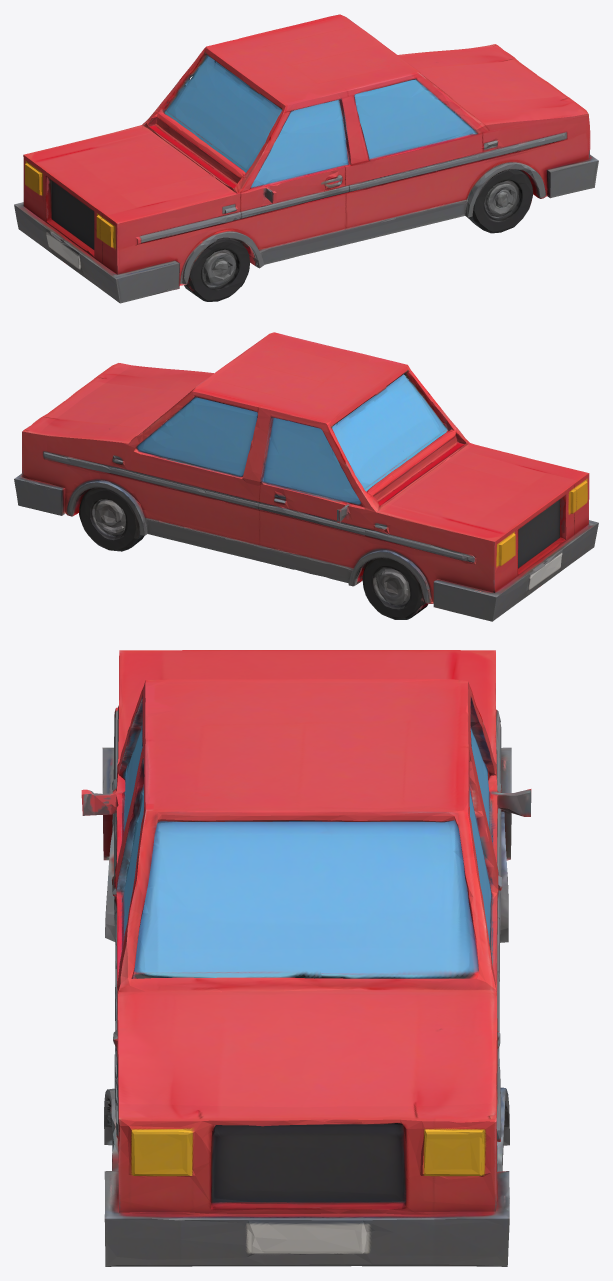
Rendered from Red_Boxy_Car_0622130610_texture.fbx.
3 views of the same model, one above another, from view 1: azimuth 30°, elevation 25°; view 2: azimuth 150°, elevation 25°; view 3: azimuth 270°, elevation 25° (orthographic). The views are drawn at different scales.
Parts seen in each view (by area): view 1: temp; view 2: temp; view 3: temp.
Boxes of the visible parts, left/top/right/bottom form: temp: left=14, top=14, right=598, bottom=303; temp: left=14, top=332, right=598, bottom=621; temp: left=81, top=650, right=531, bottom=1266.
Bounding box in the file's own units: 197 × 68.31 × 79.38.
Materials: 1 (1 with a texture image).
